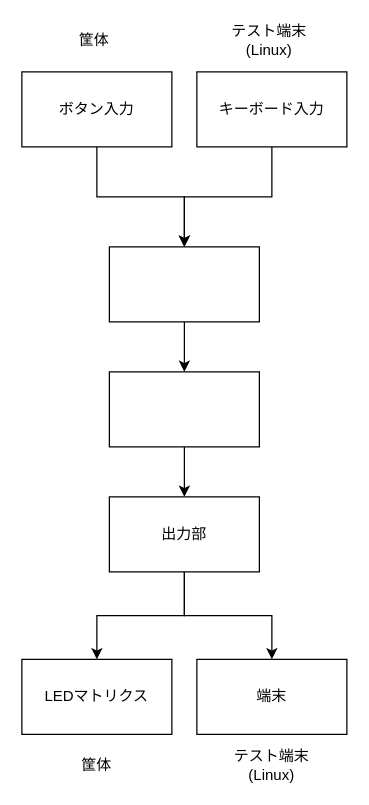
This 369x805 diagram has some shape labels left out. Each missing label, with the centre of its shape:
パズル部: the point at 183,409
入力部: the point at 183,284
